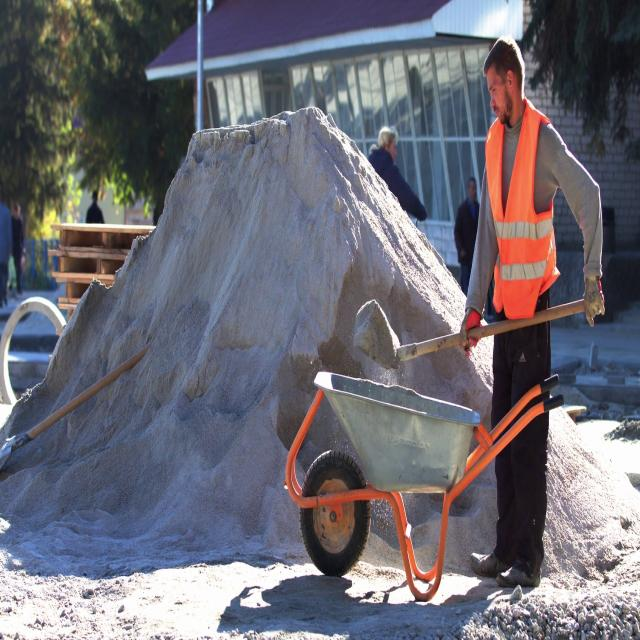gloved: (583, 274, 605, 327), (460, 308, 481, 356)
